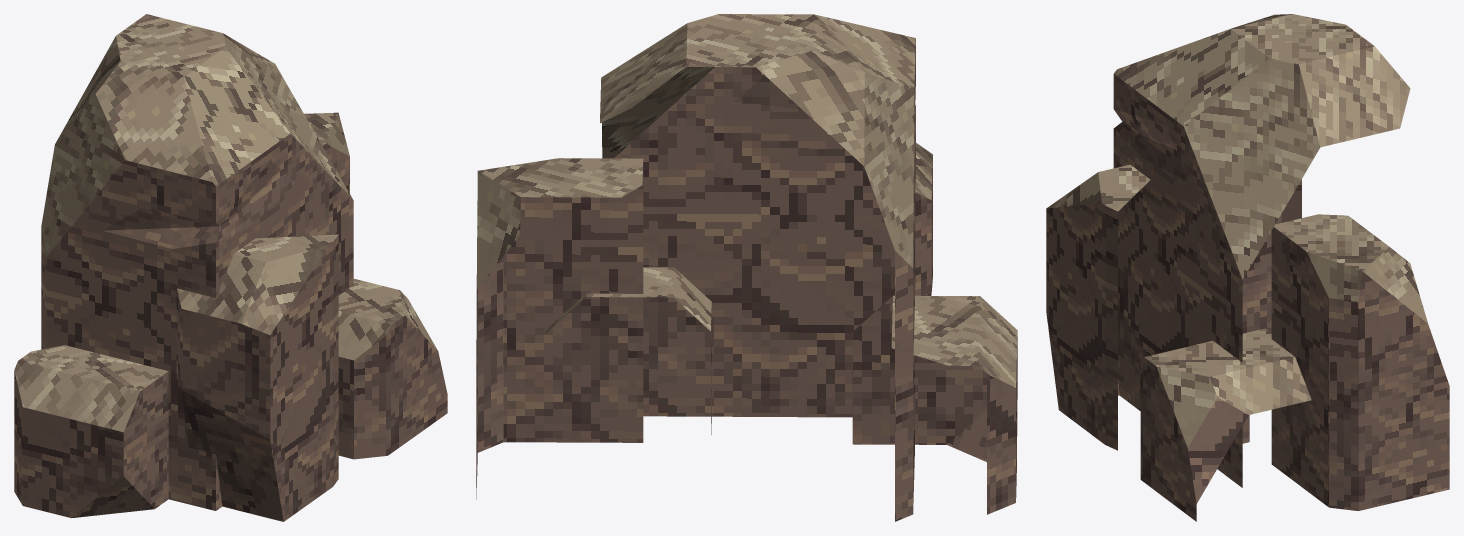
Rendered from S_M1SurfaceRockA.fbx.
3 views of the same model, side by side, from view 1: azimuth 30°, elevation 25°; view 2: azimuth 150°, elevation 25°; view 3: azimuth 270°, elevation 25° (orthographic). The views are drawn at different scales.
Parts seen in each view (by area): view 1: S_M1SurfaceRockA; view 2: S_M1SurfaceRockA; view 3: S_M1SurfaceRockA.
Part boxes in pixels (left/top/right/bottom): S_M1SurfaceRockA: left=14, top=14, right=447, bottom=521; S_M1SurfaceRockA: left=476, top=14, right=1017, bottom=521; S_M1SurfaceRockA: left=1046, top=14, right=1449, bottom=521.
Bounding box in the file's own units: 189 × 168 × 163.
2 materials, 2 textured.
